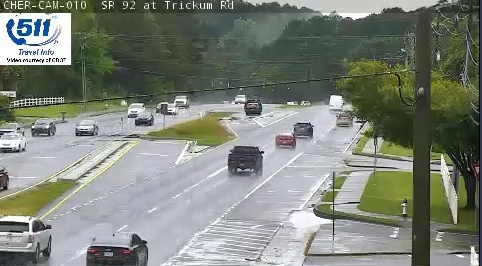car: (87, 233, 149, 265), (1, 216, 50, 256), (228, 146, 262, 173), (275, 132, 296, 147), (293, 122, 313, 137), (336, 112, 353, 127)
